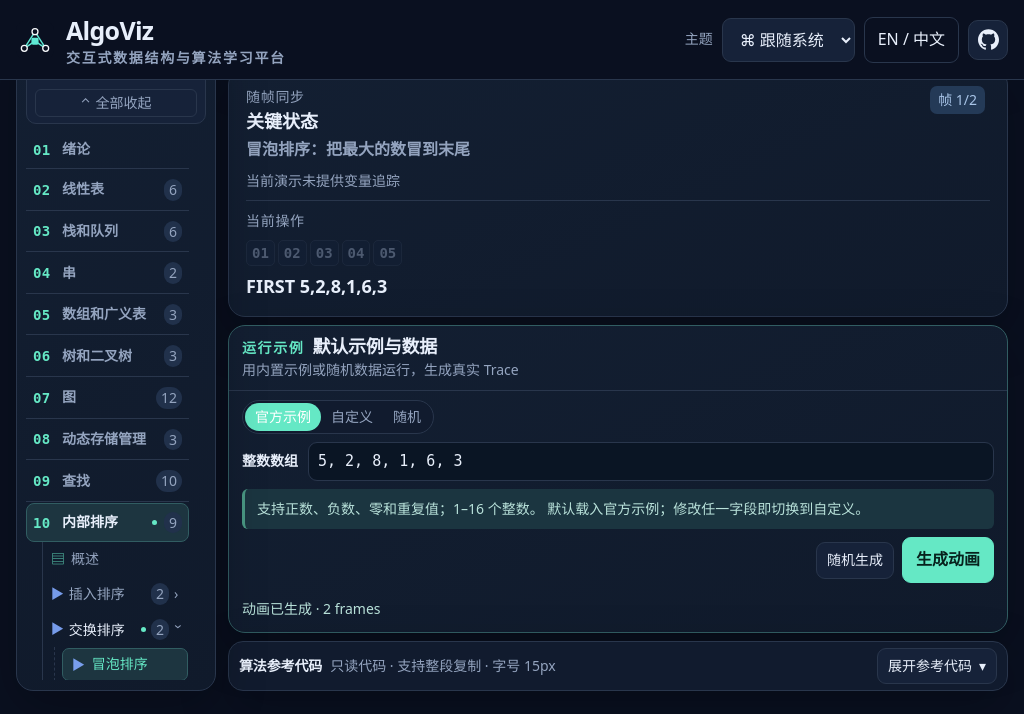
it: INPUT-01 custom inputs really execute › ignores a late result from an older generation
(page scrolled)
Replace the text in the text box with test id "run-input" with "9, 1, 4" at (651, 462), box [308,442,994,481]
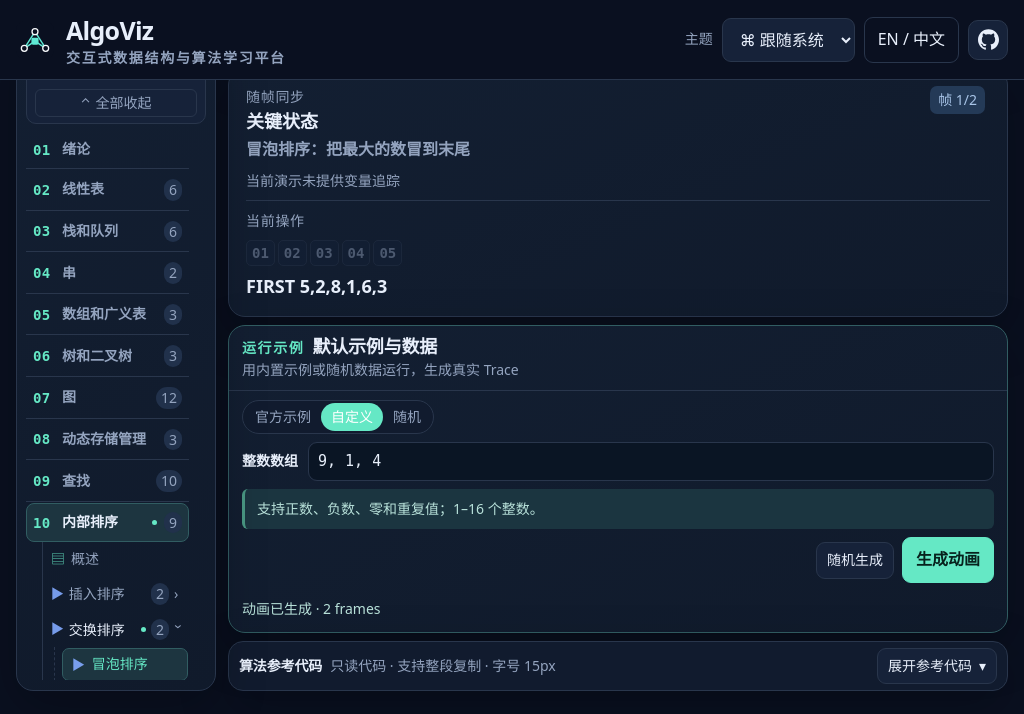
Click the button with test id "run-btn".
click(948, 560)  # box [902,537,994,583]
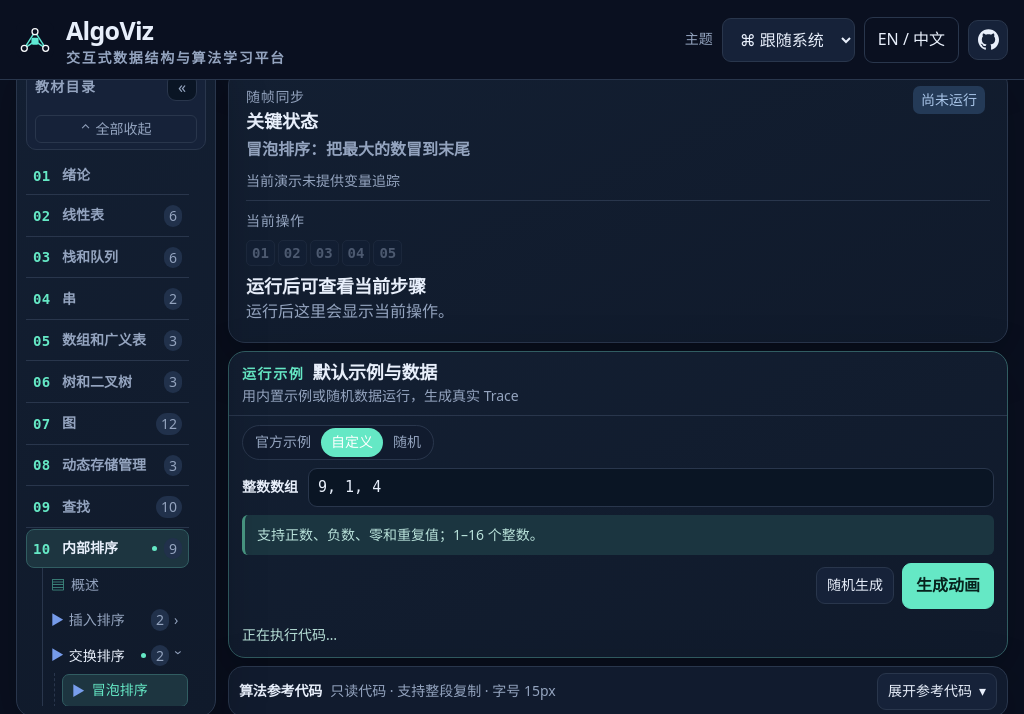
Replace the text in the text box with test id "run-input" with "2, 8, 3" at (651, 487), box [308,468,994,506]
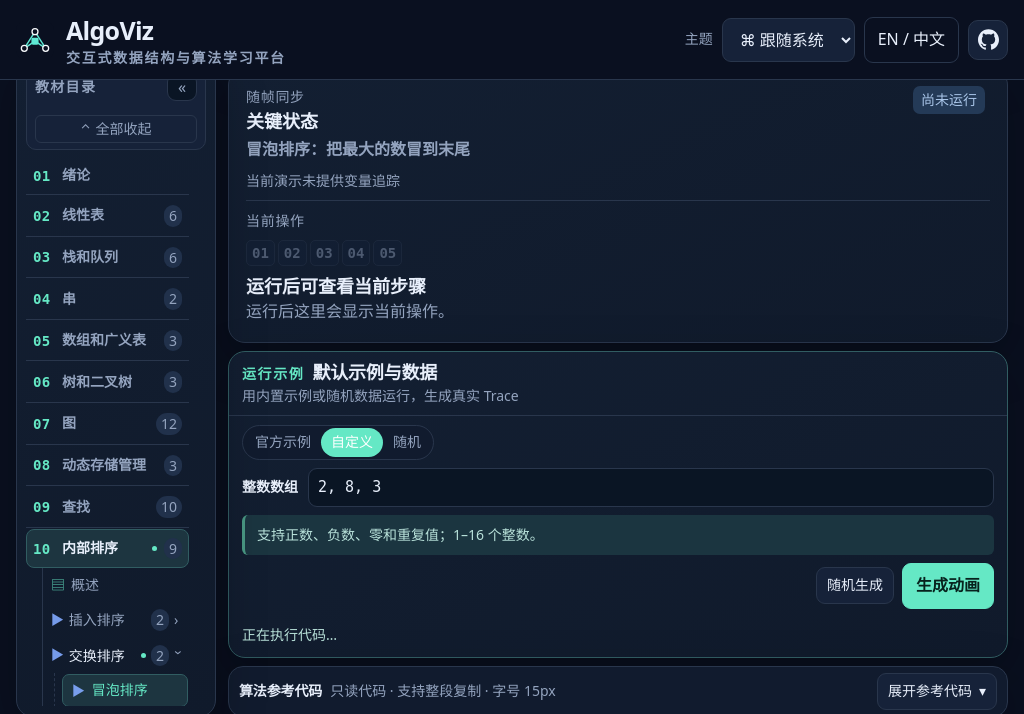
Click the button with test id "run-btn".
click(948, 586)  # box [902,563,994,609]
(page scrolled)
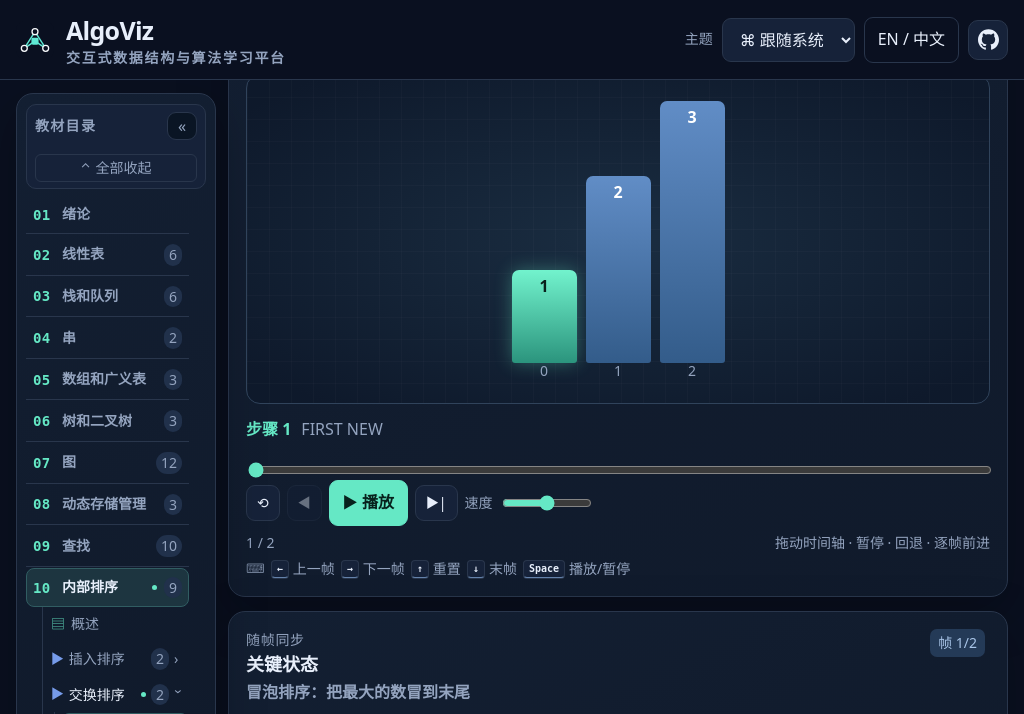
expect the text with test id "step-desc" reads "FIRST NEW": met, box [301,418,383,440]
